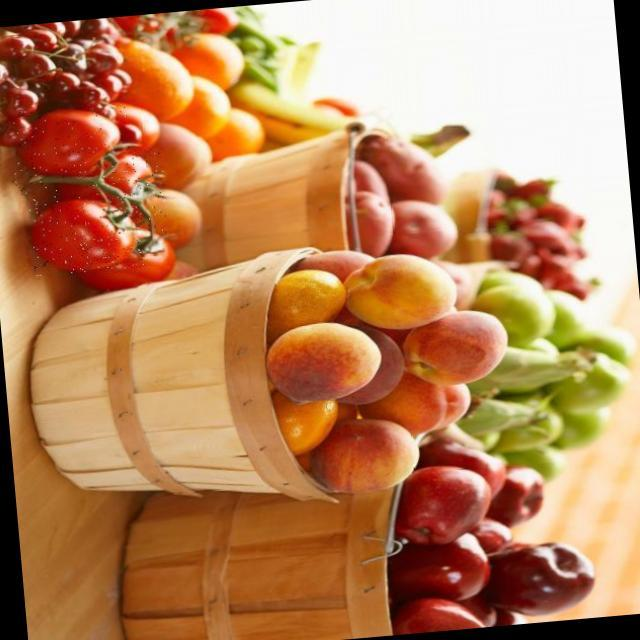Tomate: (29, 147, 168, 244), (4, 102, 133, 200), (27, 193, 143, 276)
